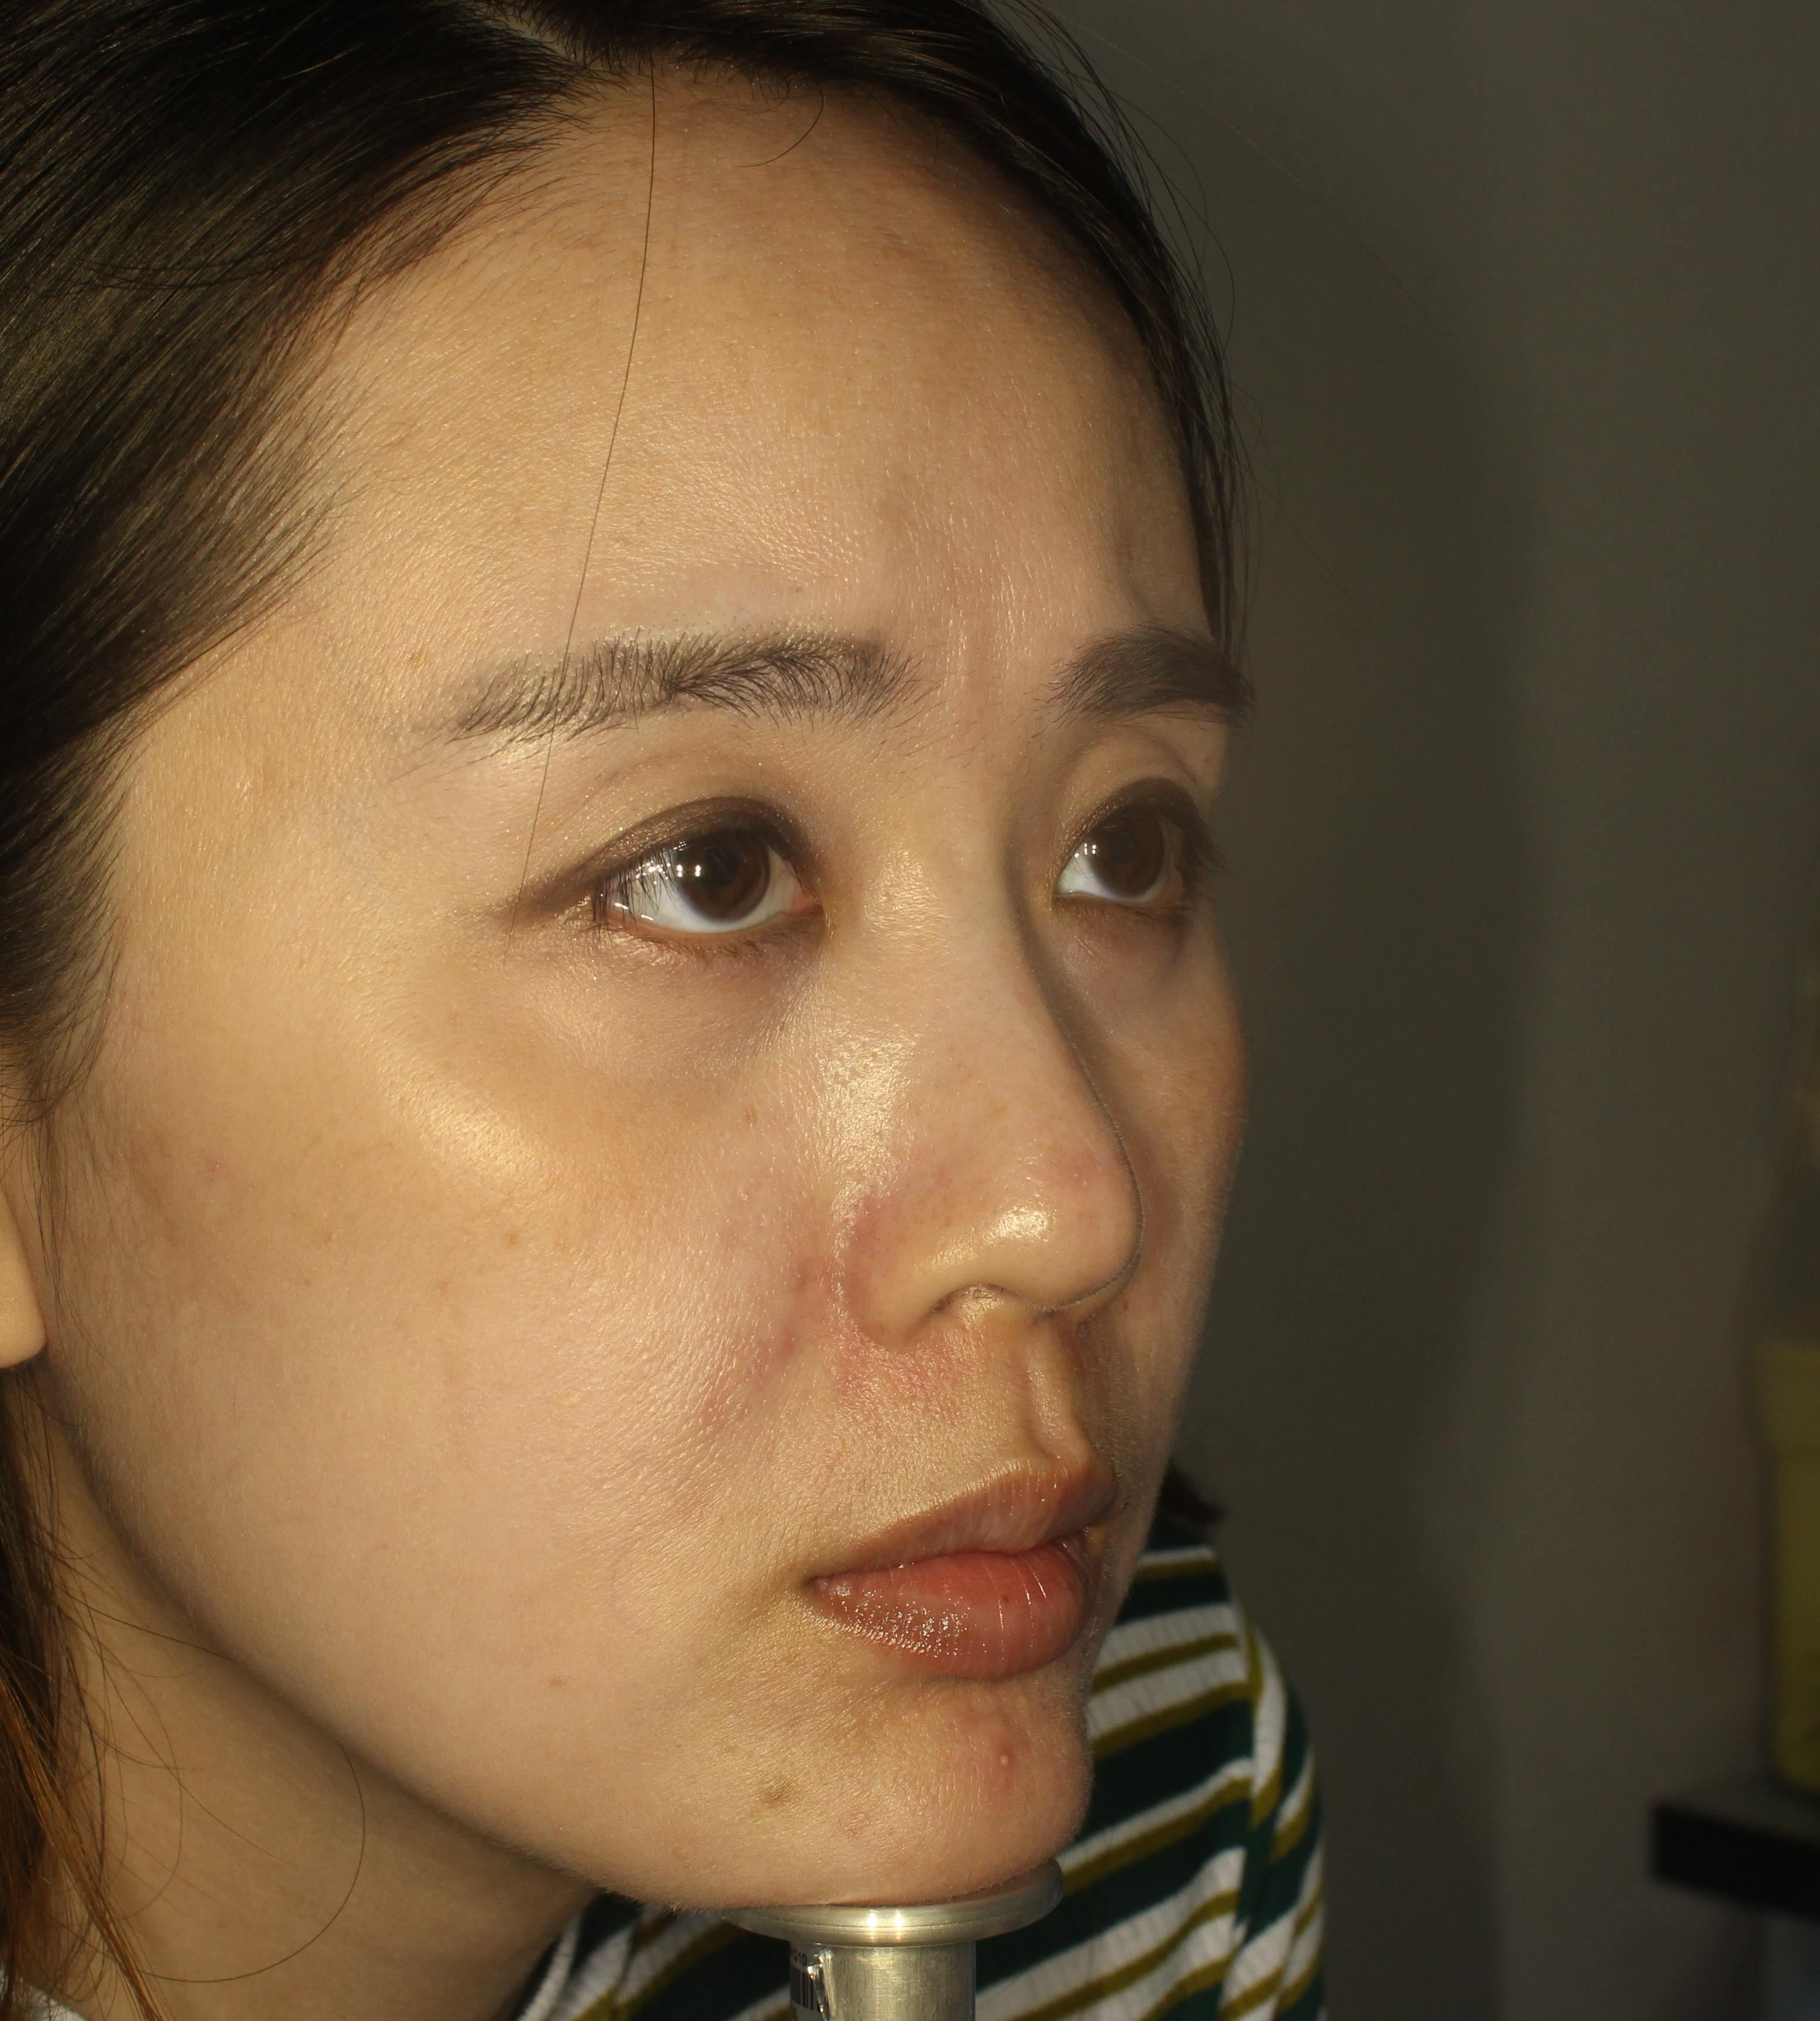fore: (759, 1257, 820, 1406), (973, 1696, 1028, 1791)
